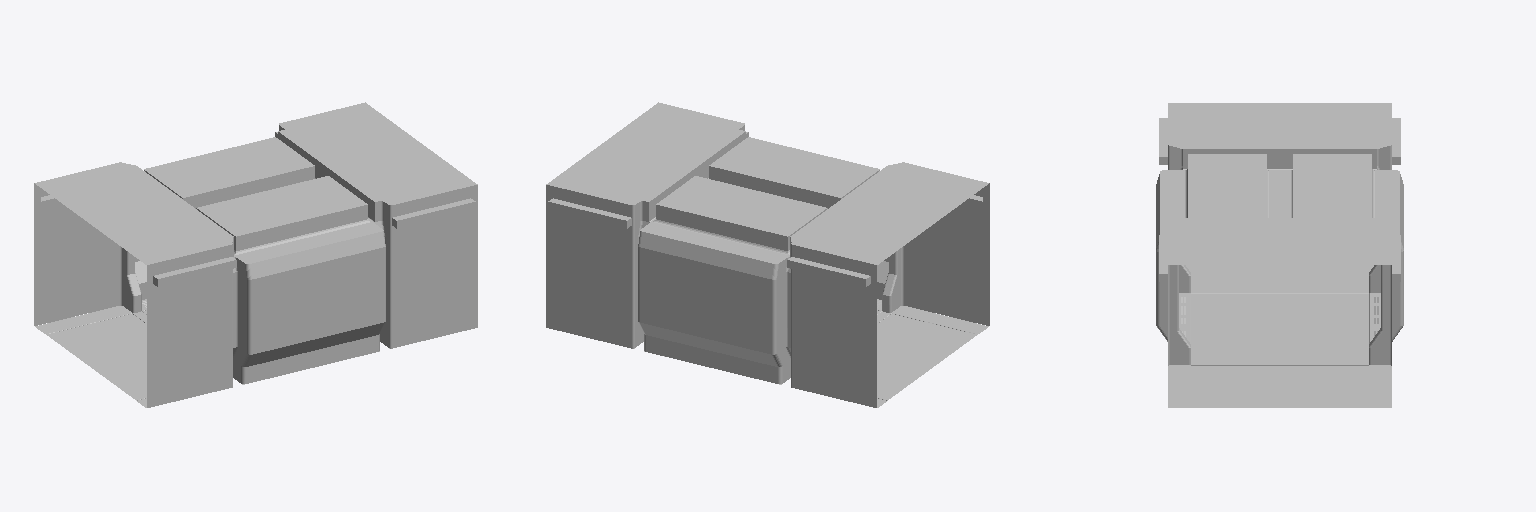
The model's file is Wall_B_straight.obj.
3 views of the same model, side by side, from view 1: azimuth 30°, elevation 25°; view 2: azimuth 150°, elevation 25°; view 3: azimuth 270°, elevation 25° (orthographic).
Visible parts, largest first — view 1: Wall.004_Cube, ground_plane.004_Plane.002; view 2: Wall.004_Cube, ground_plane.004_Plane.002; view 3: Wall.004_Cube, ground_plane.004_Plane.002, ground_ventilation.004_Plane.003.
Part boxes in pixels (x1,y1,x2,y2): Wall.004_Cube: (34,102,477,407); ground_plane.004_Plane.002: (35,299,389,407); Wall.004_Cube: (546,102,989,407); ground_plane.004_Plane.002: (634,299,988,407); Wall.004_Cube: (1156,103,1403,365); ground_plane.004_Plane.002: (1168,265,1391,407); ground_ventilation.004_Plane.003: (1179,294,1380,337).
Bounding box in the file's own units: 20.45 × 8.51 × 13.28.